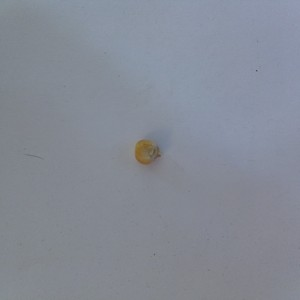maiz: (129, 135, 168, 167)
